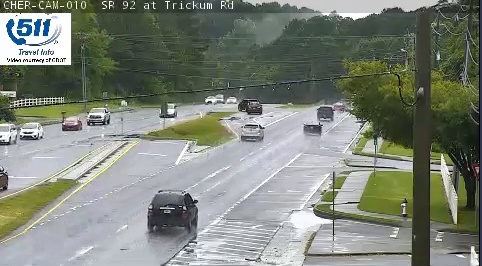car: (147, 190, 197, 227), (240, 124, 264, 140), (302, 121, 322, 136), (317, 106, 333, 121)
